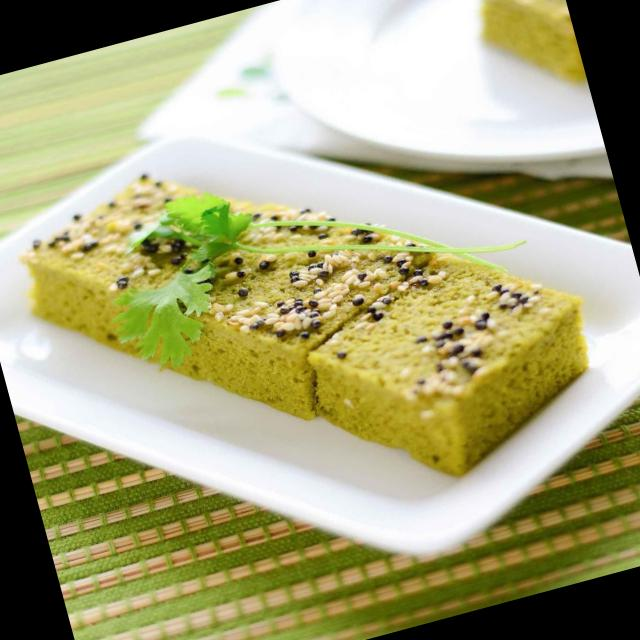dhokla: (12, 88, 584, 530), (486, 0, 588, 100)
